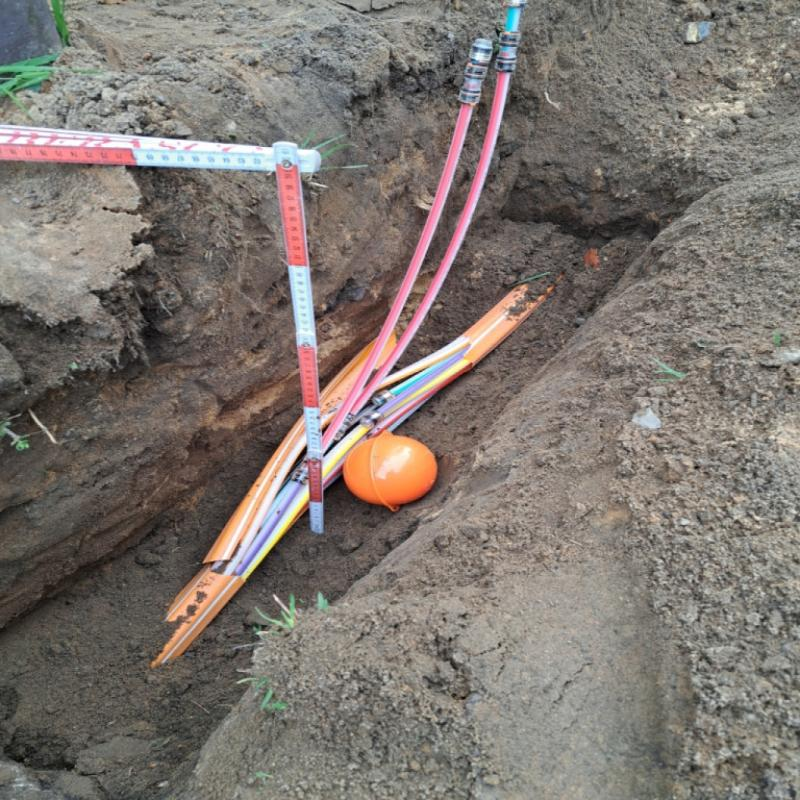Kugelmarker: (345, 432, 437, 507)
Orang-Speednetrohrchen: (163, 272, 555, 639)
